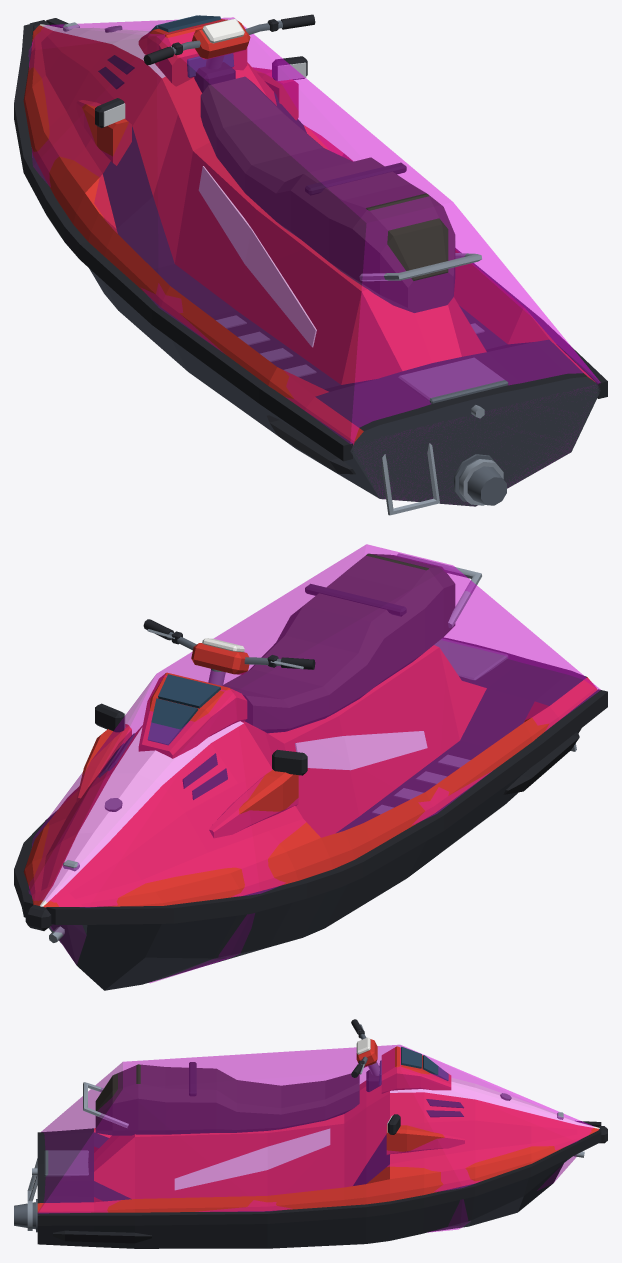
File: jetski.glb
3 views of the same model, one above another, from view 1: azimuth 30°, elevation 25°; view 2: azimuth 150°, elevation 25°; view 3: azimuth 270°, elevation 25° (orthographic). The views are drawn at different scales.
Visible parts, largest first — view 1: Body, Col_Body, Handlebar, Motor; view 2: Body, Col_Body, Handlebar; view 3: Body, Col_Body, Handlebar, Motor.
Part boxes in pixels (x1,y1,x2,y2): Body: (14, 15, 607, 515); Col_Body: (28, 17, 600, 499); Handlebar: (143, 14, 315, 69); Motor: (459, 459, 506, 505); Body: (14, 553, 607, 990); Col_Body: (29, 544, 600, 983); Handlebar: (143, 619, 315, 685); Body: (27, 1046, 607, 1248); Col_Body: (38, 1044, 593, 1232); Handlebar: (351, 1019, 379, 1077); Motor: (14, 1200, 35, 1230).
Size of what is drawn, in the model's own units: 1.28 by 1.28 by 3.49.
